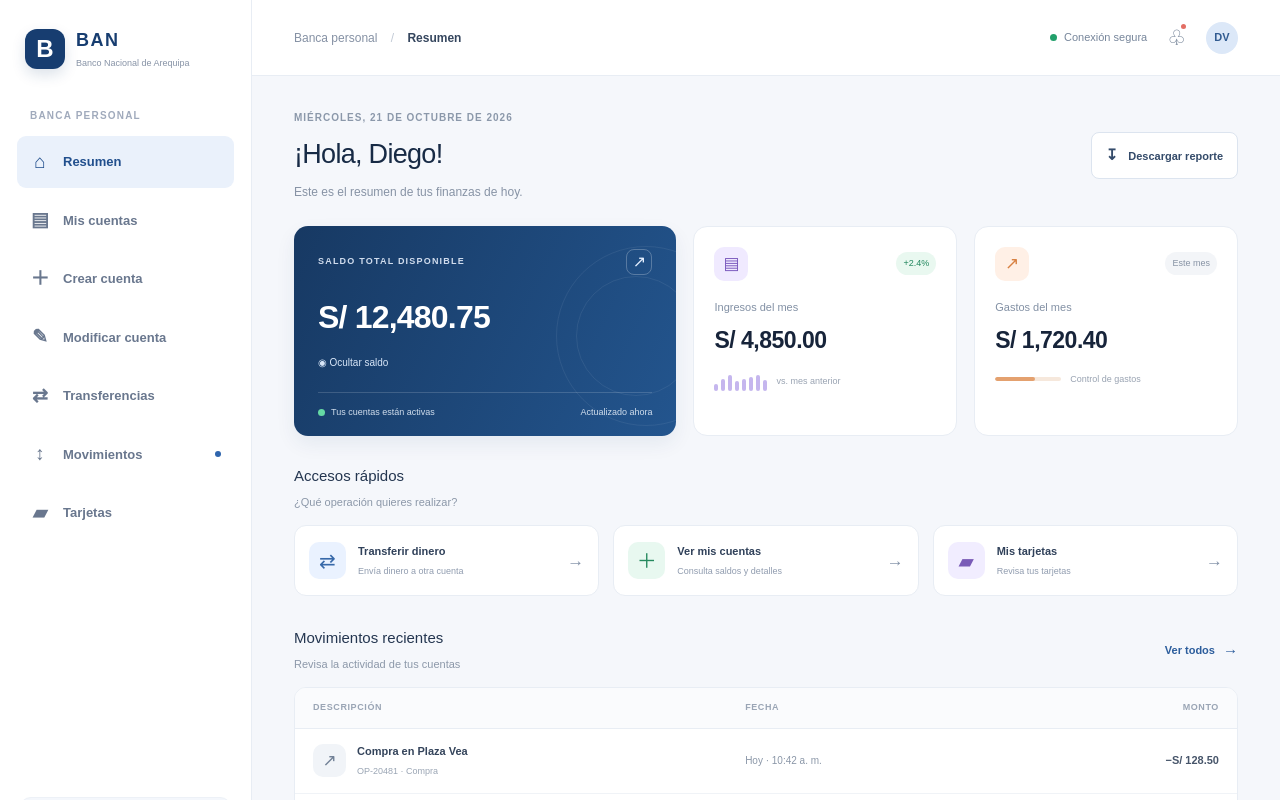
Crear cuenta › CC-13 Se puede quitar un titular adicional
Click the button "＋ Crear cuenta".
click(126, 279)  # box [17, 252, 234, 305]
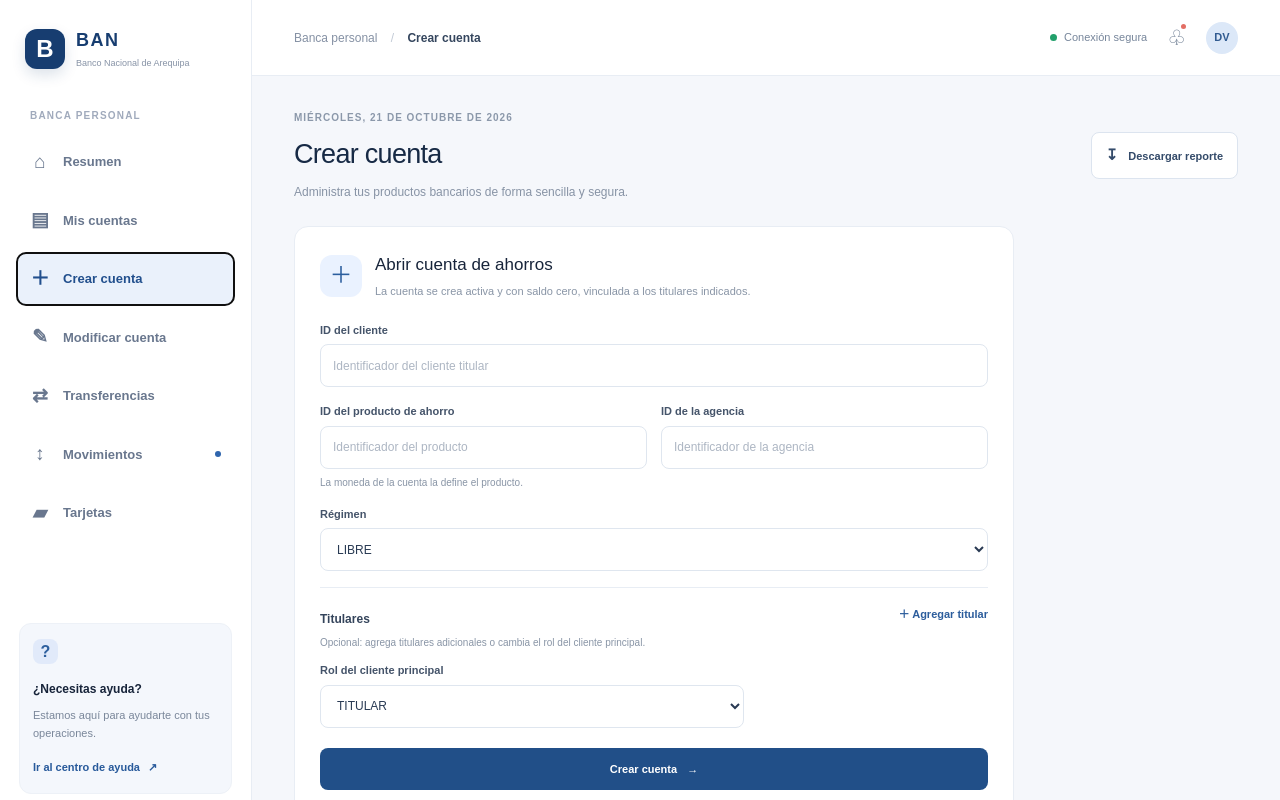
Click the button "＋ Agregar titular".
click(943, 614)  # box [898, 606, 988, 622]
(page scrolled)
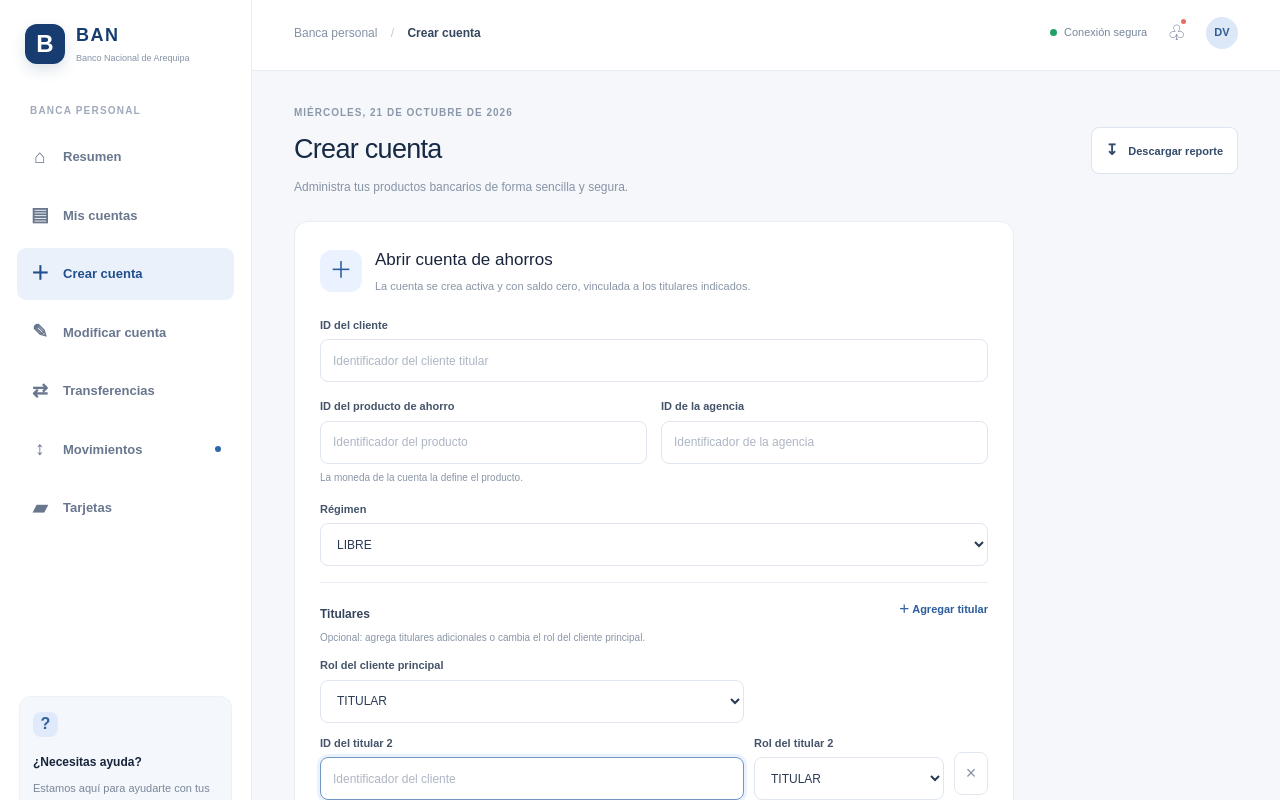
Check: the field labelled "ID del titular 2" is shown, box [320, 757, 744, 799]
Click the button named "Quitar titular 2".
click(971, 773)  # box [954, 752, 988, 794]
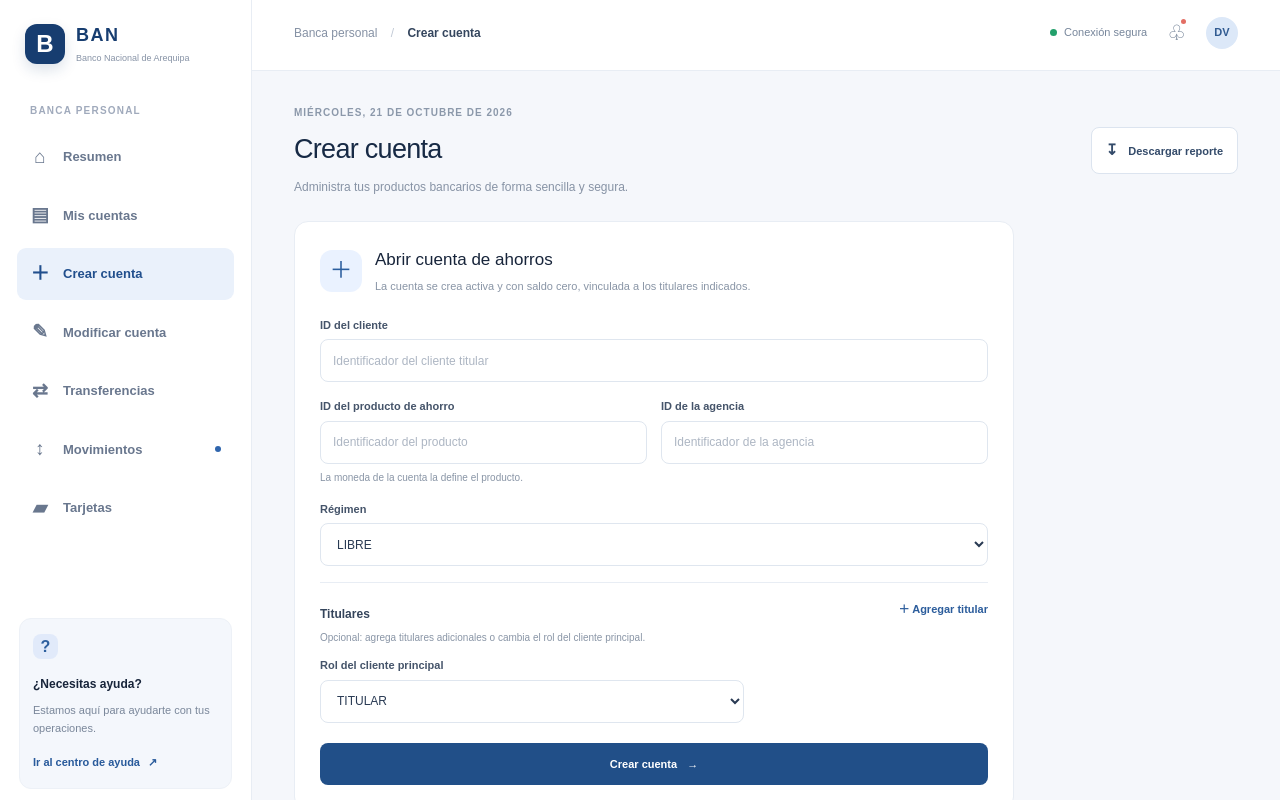
Check: the label labelled "ID del titular 2" is gone
